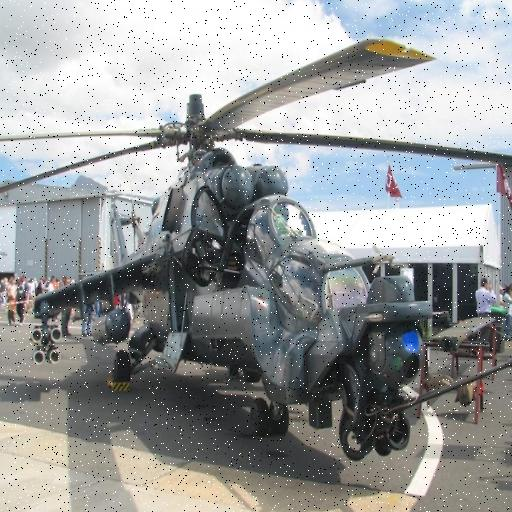helicopter: (1, 39, 512, 459)
